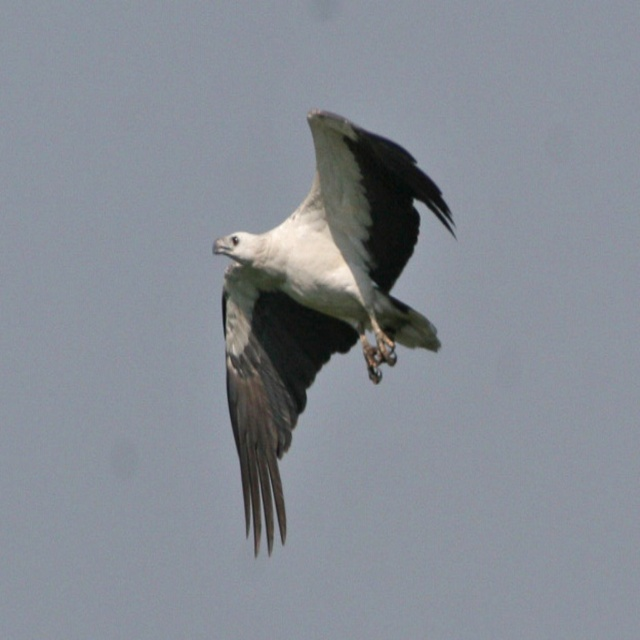Eagle: (214, 109, 465, 564)
